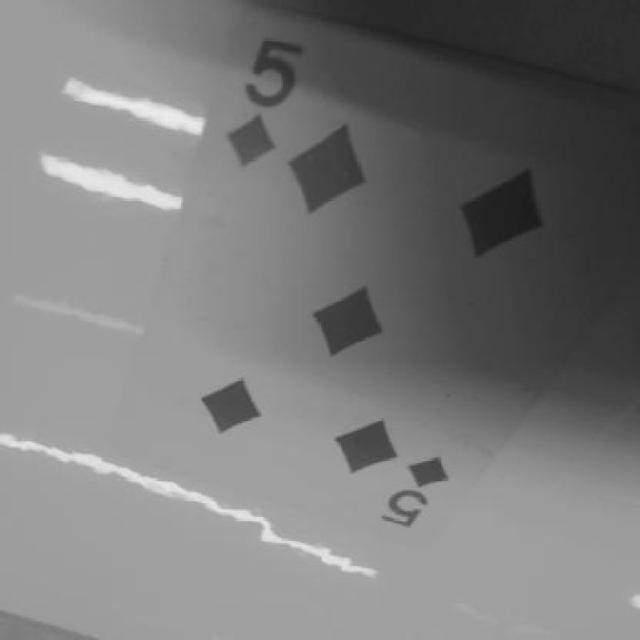5D: (214, 20, 340, 168), (374, 430, 474, 536)
